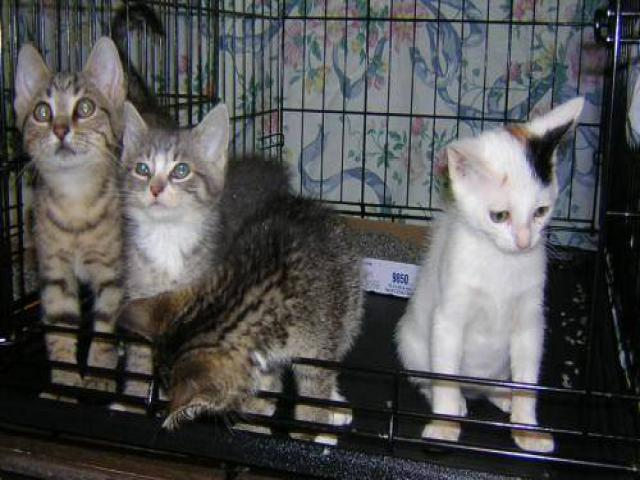cat: (91, 54, 349, 432), (397, 89, 575, 434)
